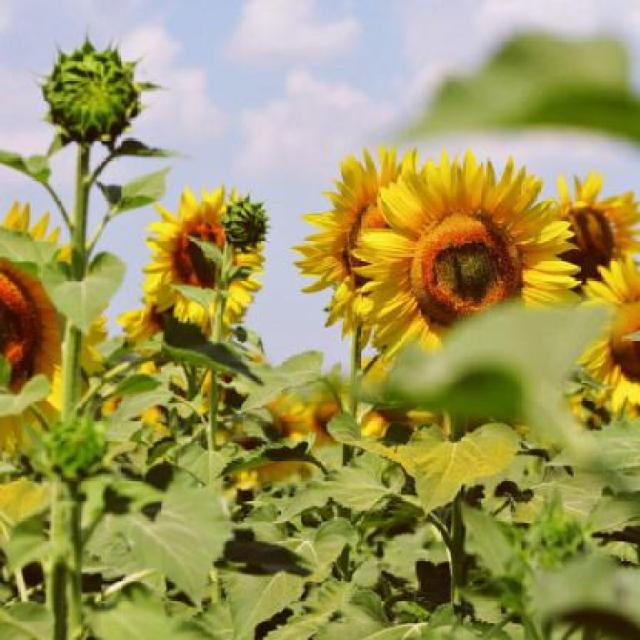sunflower: (348, 152, 567, 408)
